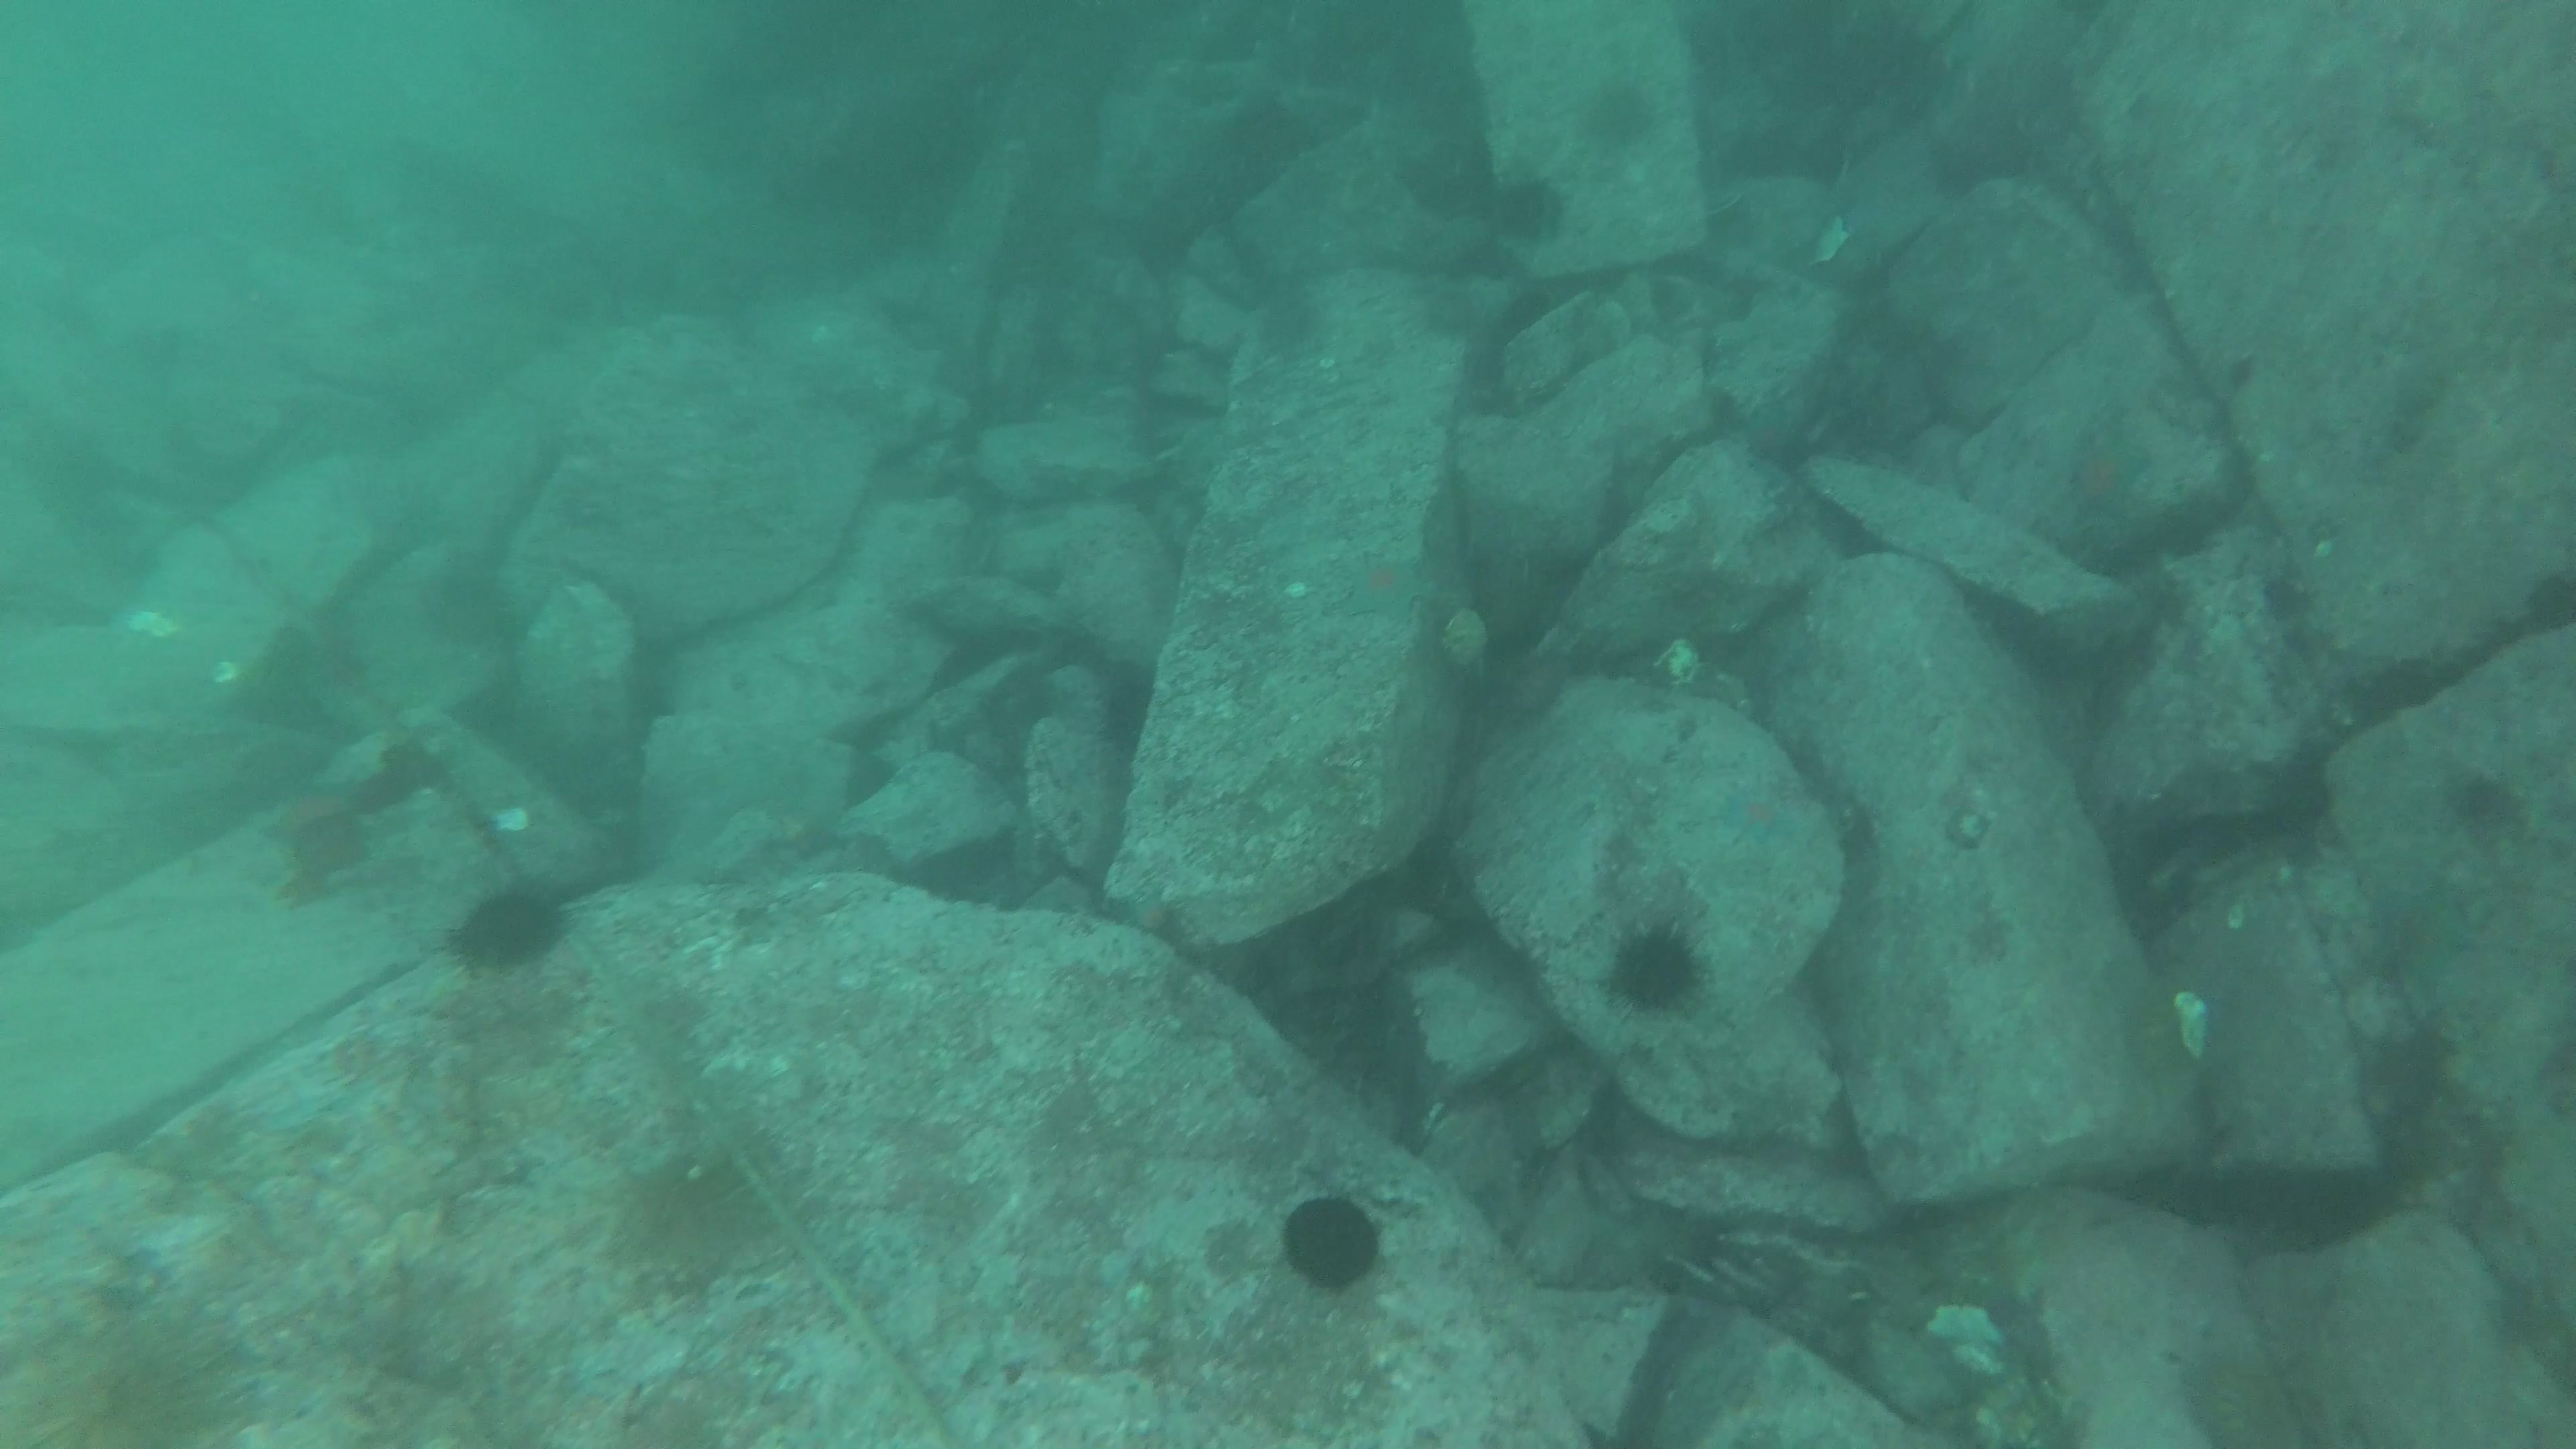echinus: (1276, 1191, 1389, 1286), (1608, 929, 1718, 1016), (455, 890, 556, 961), (278, 821, 373, 883), (1497, 180, 1566, 248)
